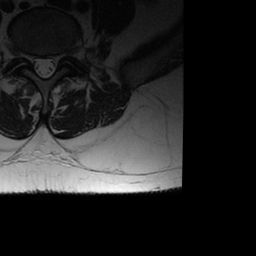CCS_normal: (40, 53, 48, 83)
LFS_severe_stenosis: (57, 44, 65, 65)
LLS_normal: (47, 52, 56, 80)
RFS_stenosis: (22, 45, 33, 69)
RLS_normal: (32, 51, 40, 78)
